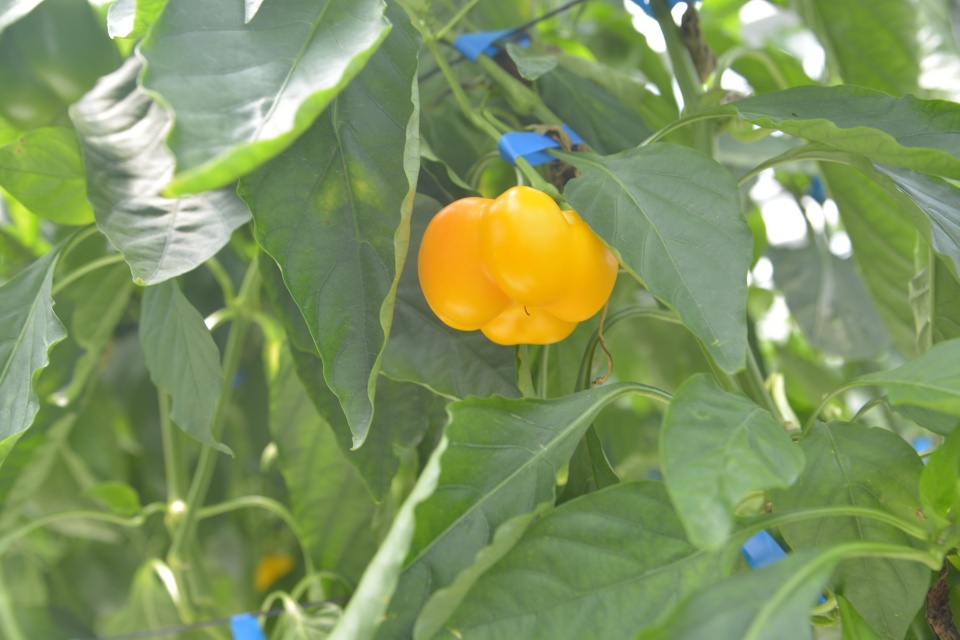fruit: (412, 181, 620, 347)
